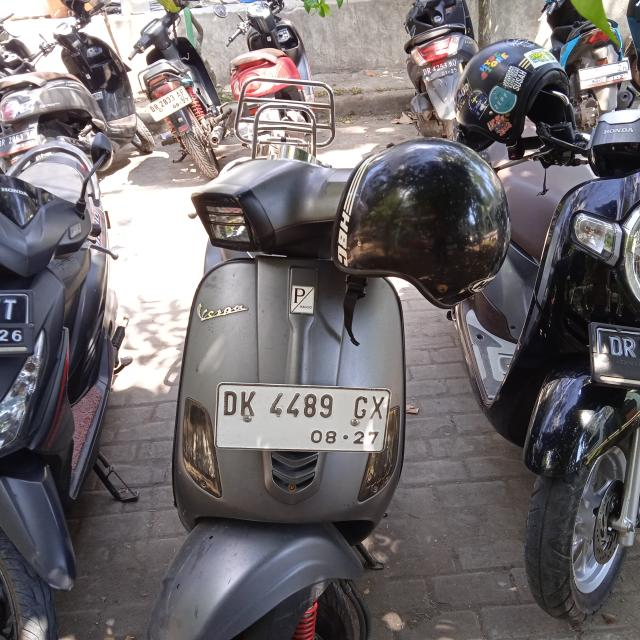plate: (215, 380, 391, 456), (146, 85, 192, 124), (421, 58, 461, 85)
